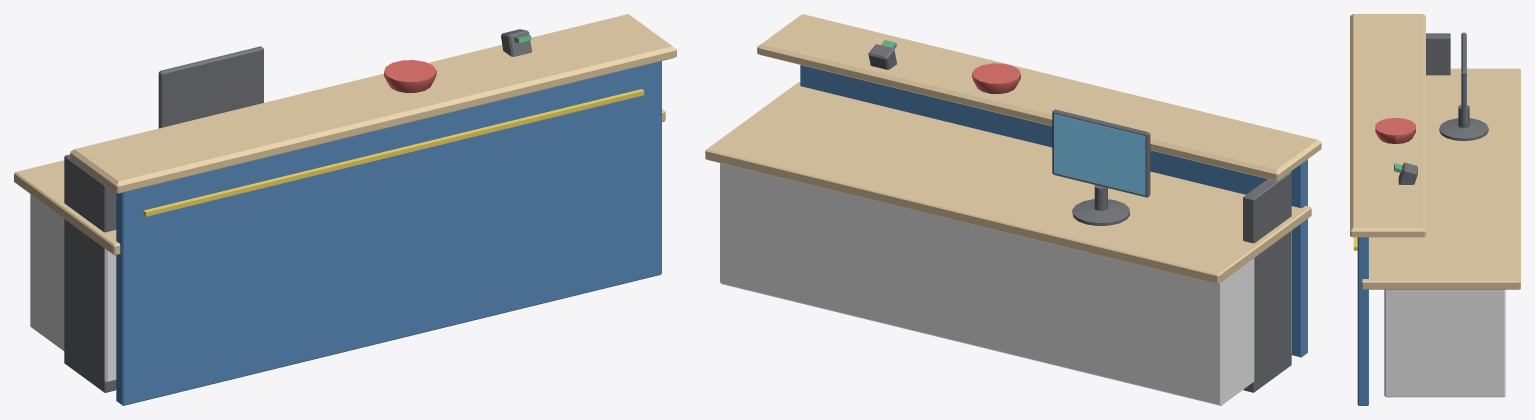
Rendered from community-sports-hall-and-changing-rooms-reception-des-ee569bd0.glb.
3 renders of one model, left to right at view 1: azimuth 30°, elevation 25°; view 2: azimuth 150°, elevation 25°; view 3: azimuth 270°, elevation 25°, orthographic. The views are drawn at different scales.
Visible parts, largest first — view 1: reception-desk; view 2: reception-desk; view 3: reception-desk.
Part boxes in pixels (x1,y1,x2,y2): reception-desk: [14, 14, 676, 405]; reception-desk: [705, 14, 1321, 405]; reception-desk: [1350, 14, 1520, 405].
Size of the model in its own units: 2.7 by 1.2 by 0.8999.
